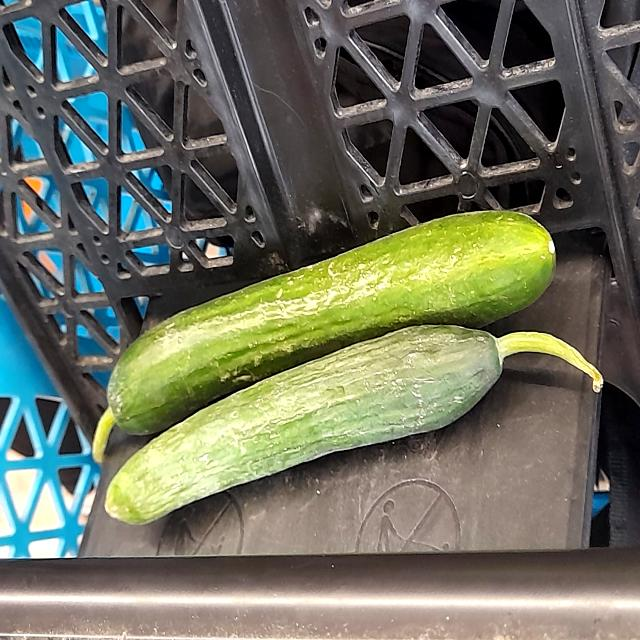cucumber: (100, 193, 572, 438), (102, 308, 604, 537)
